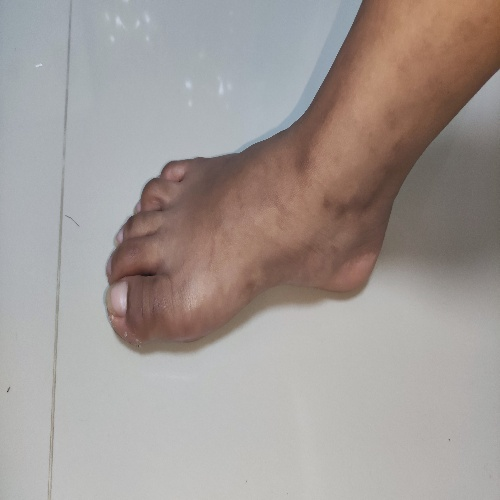3: (103, 271, 186, 347)
4: (308, 218, 382, 295)
Top_Foot: (106, 152, 384, 346)
